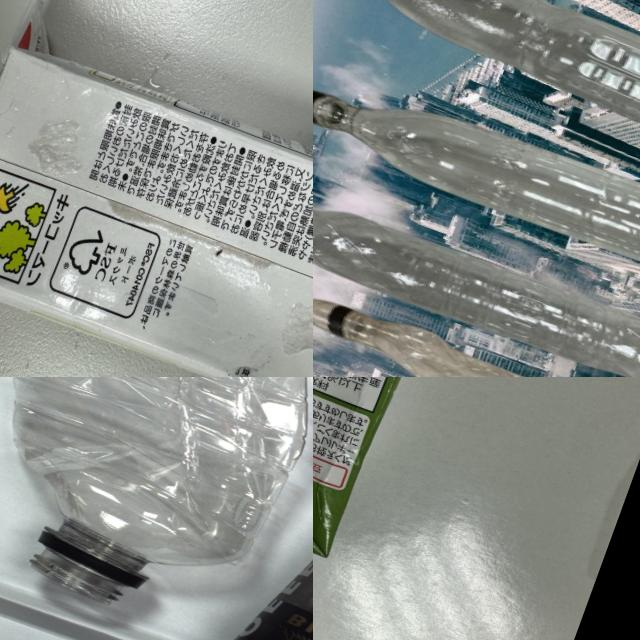Aluminium Foil: (0, 20, 313, 377), (313, 377, 470, 561)
Transparent Plastic Bottle: (313, 52, 640, 310), (0, 377, 313, 639), (313, 0, 640, 213), (313, 165, 640, 377), (313, 284, 640, 377)
